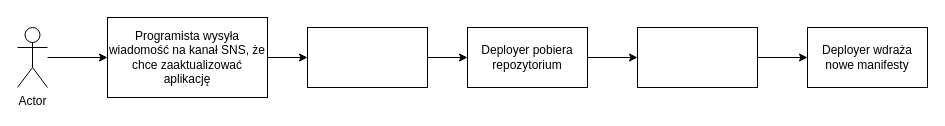
Image size: 945x126. Some labels were removed from this diagram. The shapes that lost their labels are listed below. From the top down, each one's centre as x and y in pixels, then its label:
point (367, 57): Deployer odbiera wiadomość
point (697, 57): Deployer usuwa stare wdrożone manifesty
